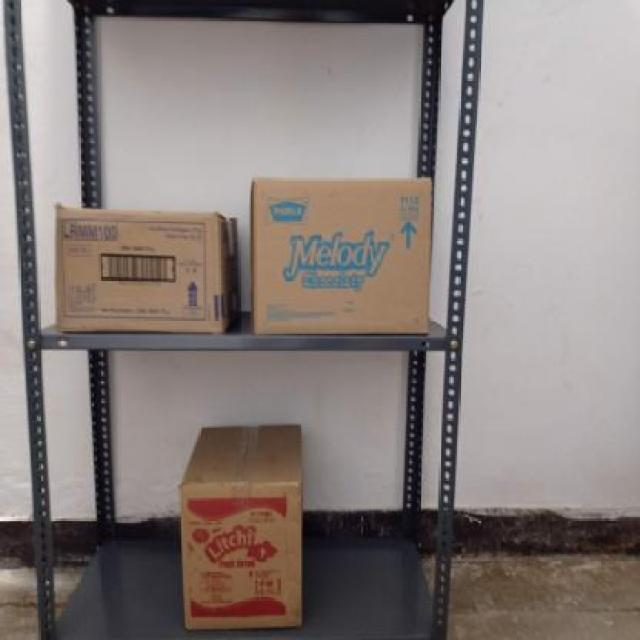box: (254, 177, 432, 331), (58, 215, 222, 334), (182, 478, 302, 634)
